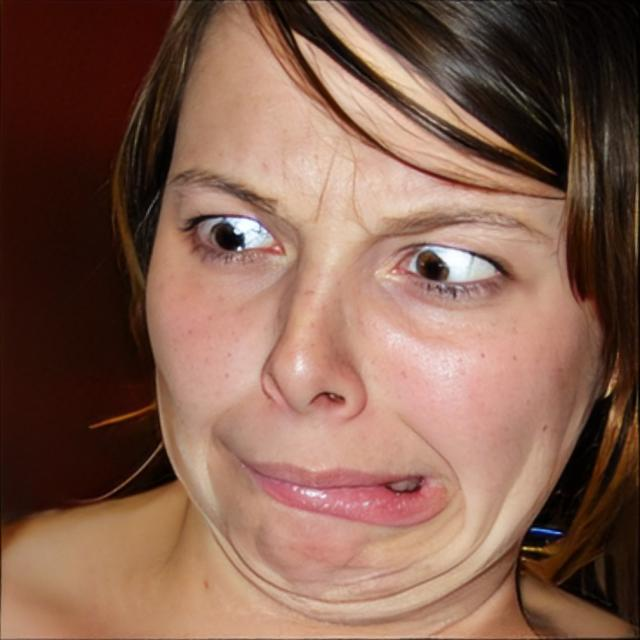fear: (142, 2, 610, 604)
